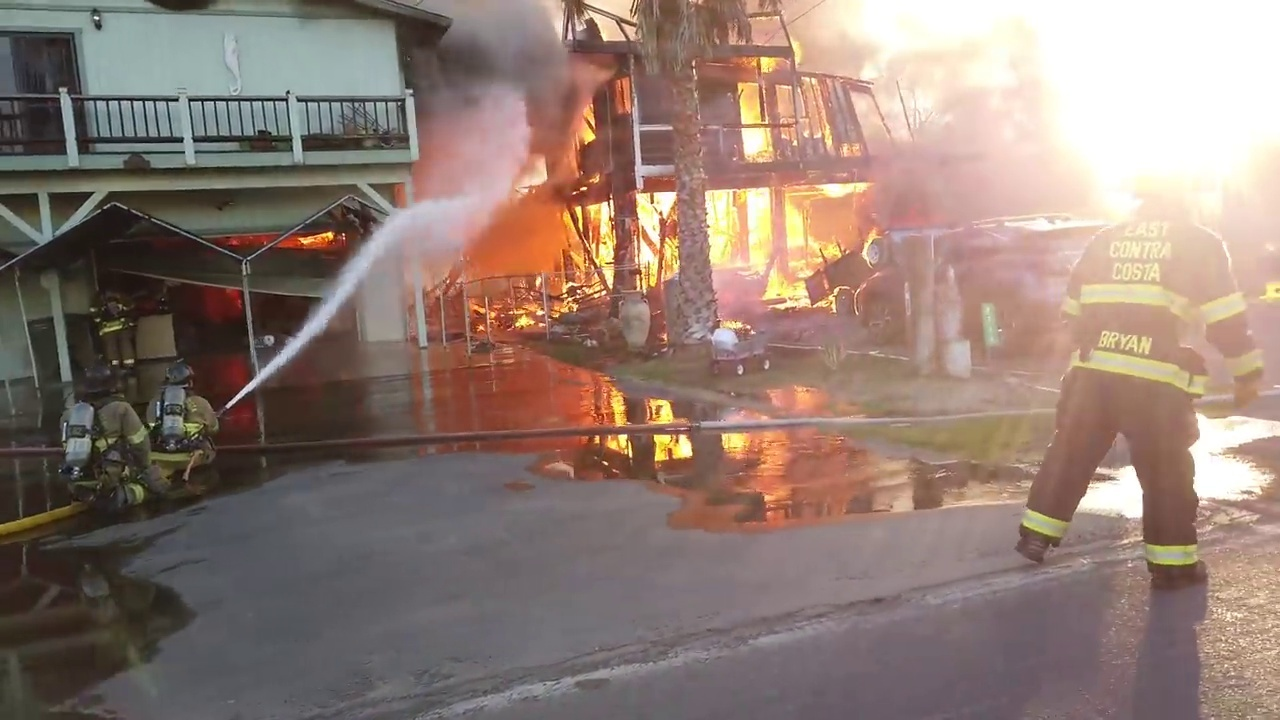fire: (491, 10, 897, 467), (194, 284, 247, 352), (207, 220, 291, 249), (296, 224, 350, 249)
smoke: (895, 24, 1093, 220), (416, 1, 603, 159), (487, 213, 568, 274)
